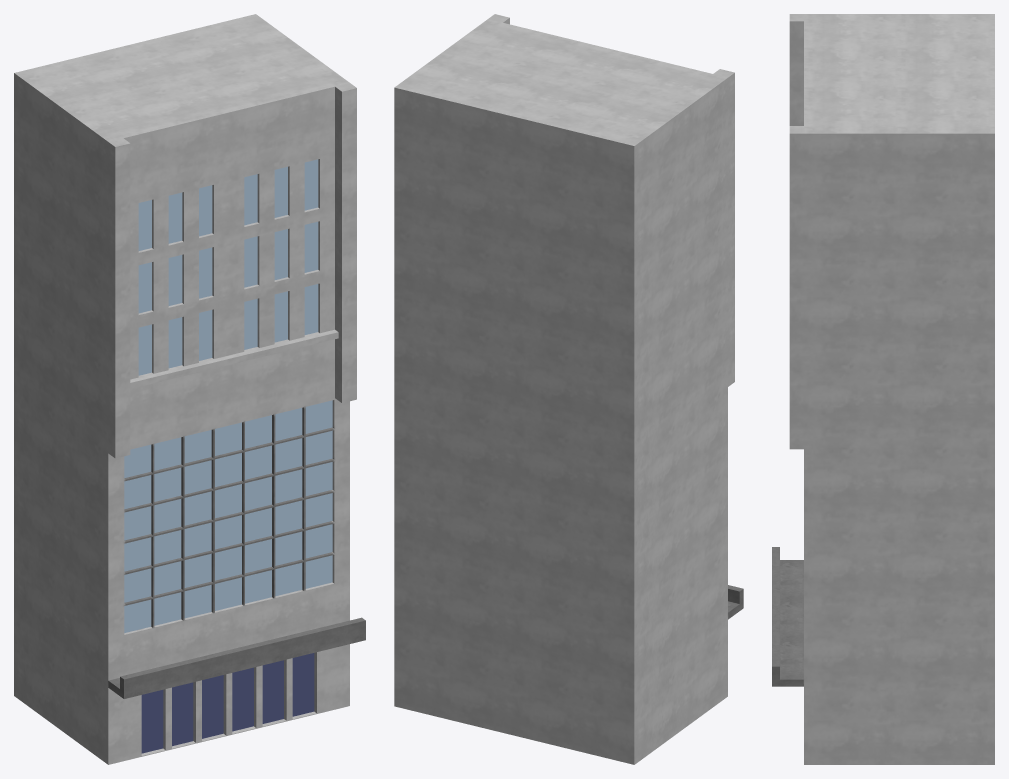
File: Building_01_Texture (2).fbx
3 renders of one model, left to right at view 1: azimuth 30°, elevation 25°; view 2: azimuth 150°, elevation 25°; view 3: azimuth 270°, elevation 25°, orthographic. The views are drawn at different scales.
Parts seen in each view (by area): view 1: Buil_01; view 2: Buil_01; view 3: Buil_01.
Boxes of the visible parts, x1=… form: Buil_01: x1=14, y1=14, x2=365, y2=764; Buil_01: x1=394, y1=14, x2=743, y2=764; Buil_01: x1=772, y1=14, x2=994, y2=764.
Bounding box in the file's own units: 1440 × 3546 × 1134.
1 material, 1 textured.
